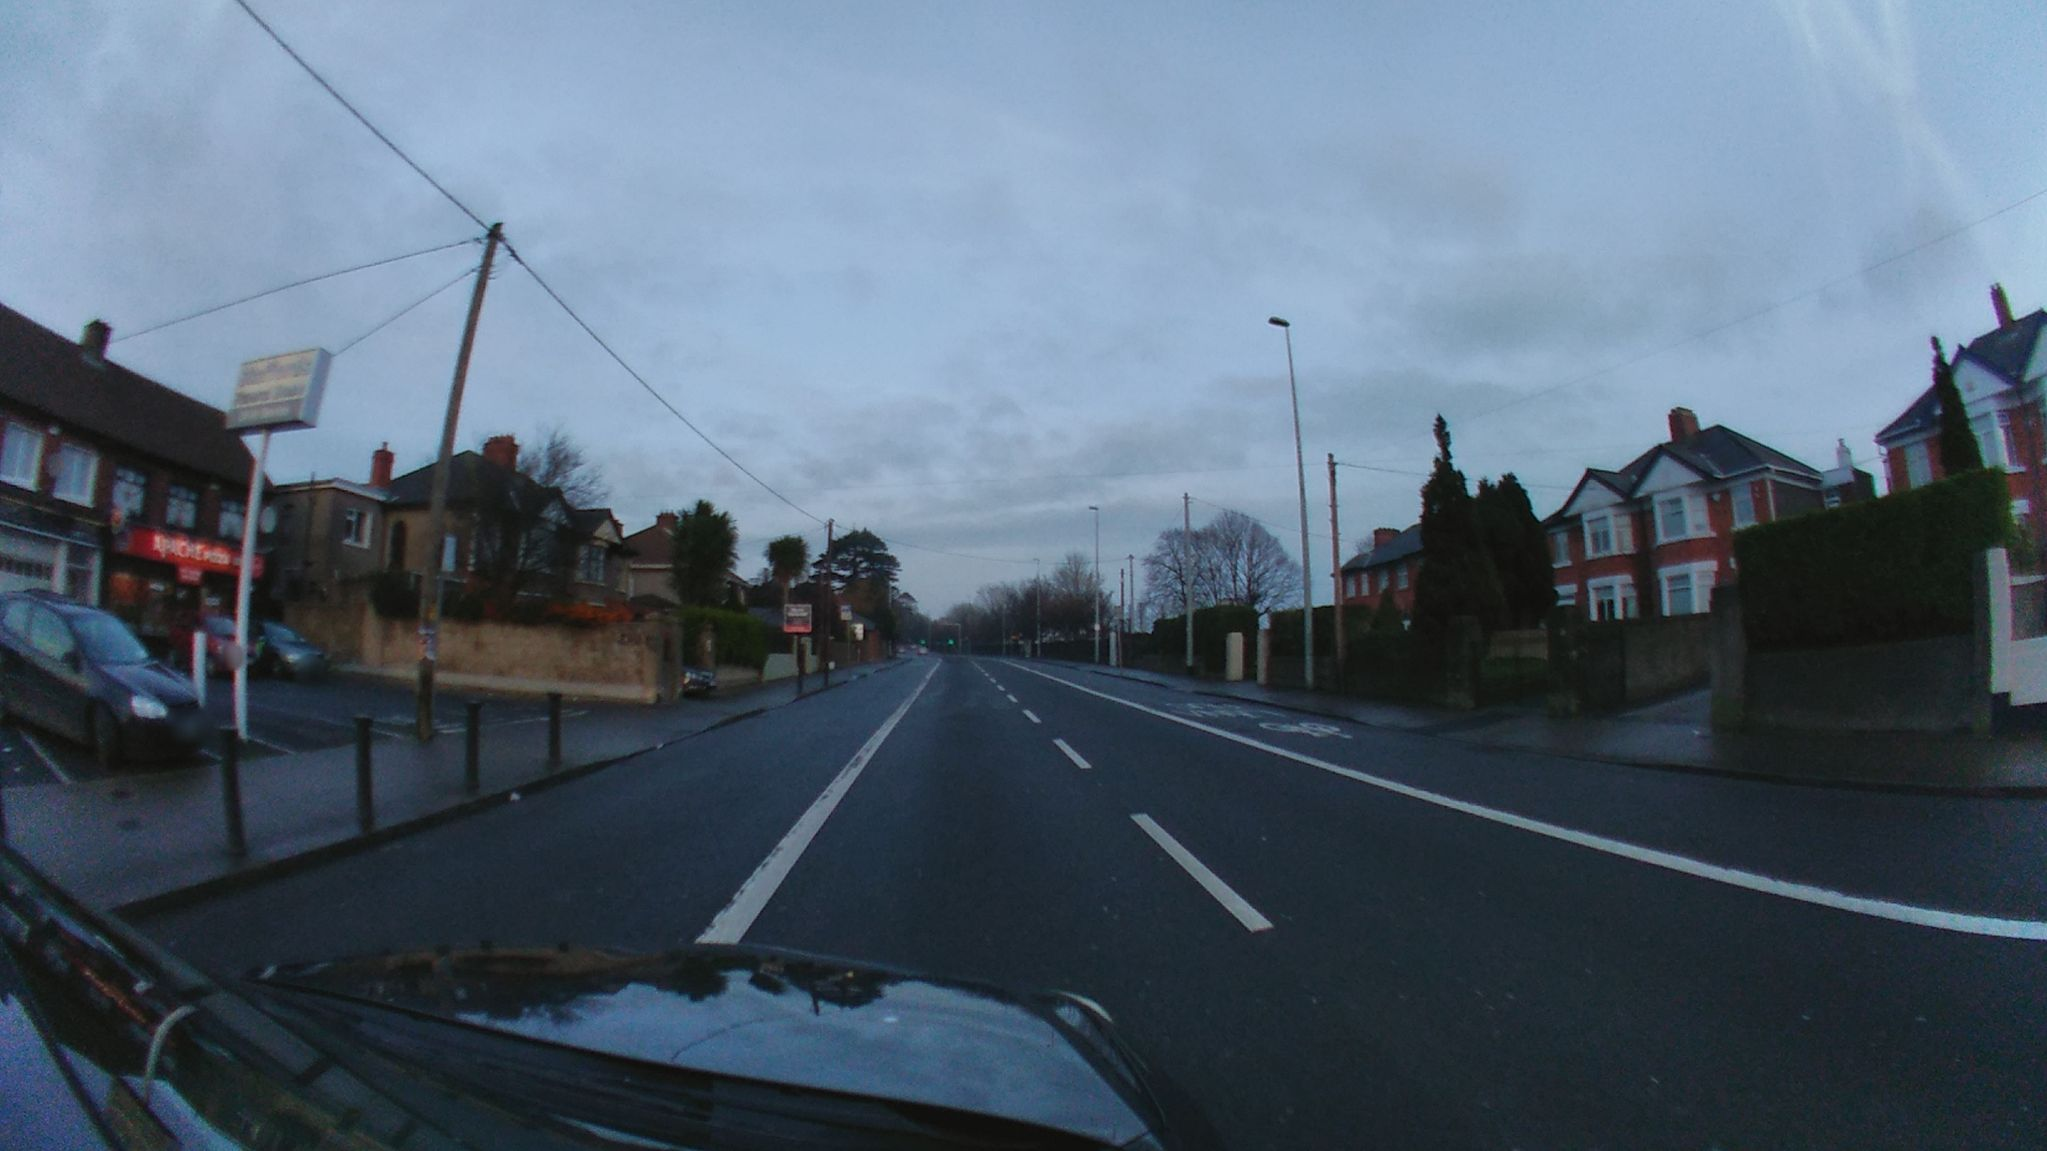property sign: (777, 592, 820, 646)
